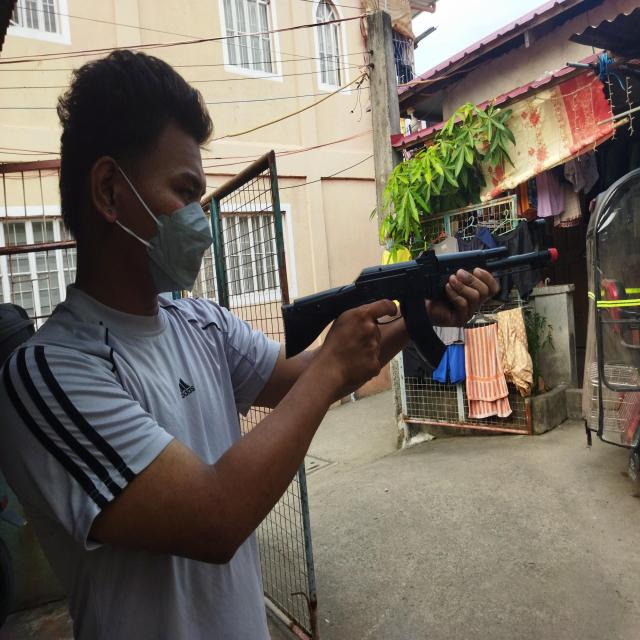rifle: (280, 246, 558, 368)
